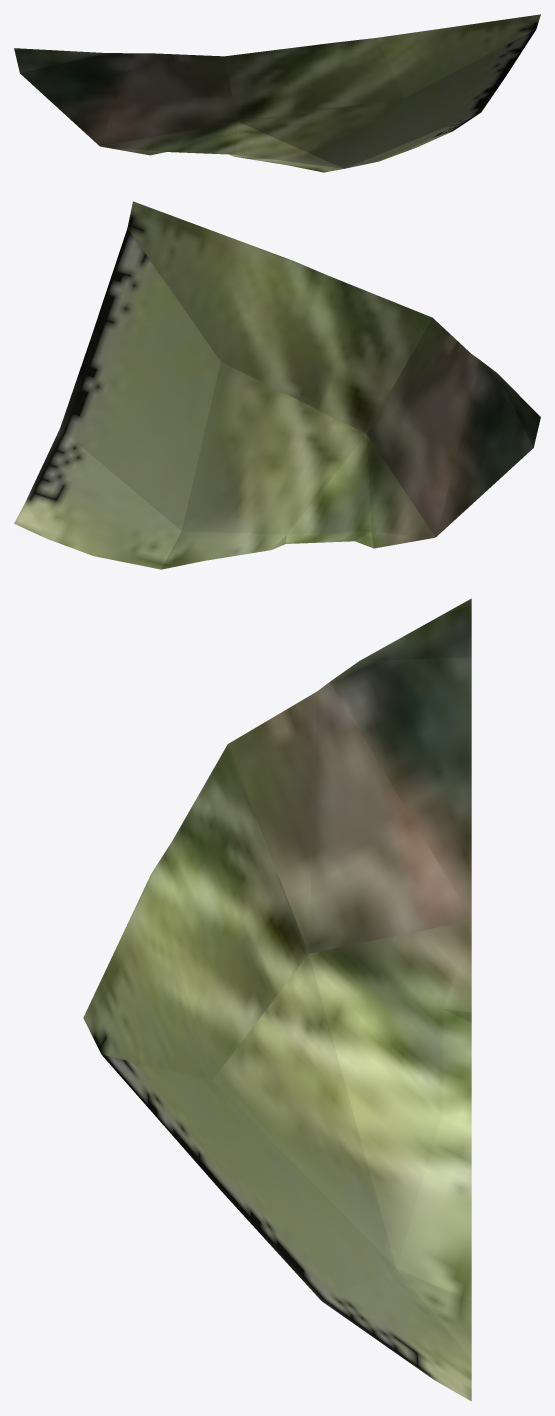
3 renders of one model, top to bottom at view 1: azimuth 30°, elevation 25°; view 2: azimuth 150°, elevation 25°; view 3: azimuth 270°, elevation 25°, orthographic. The views are drawn at different scales.
Size of the model in its own units: 14.41 by 6.49 by 5.64.
1 material, 1 textured.
